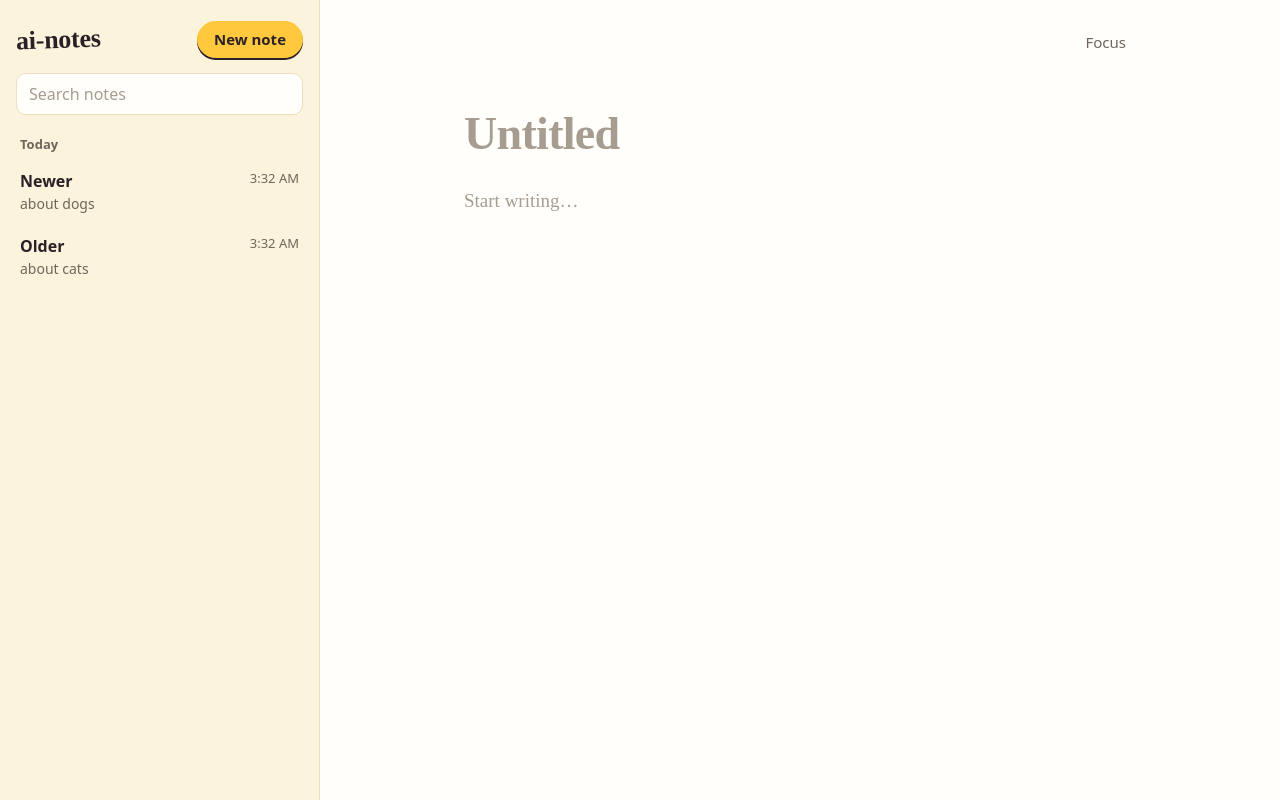
Test: finding and tidying › lists newest first and filters by search
expect the number of links is 2: met, box [8,158,311,224]; [8,224,311,288]
In the search field labelled "Search notes": (160, 94) [16,73,303,115], type "cats"
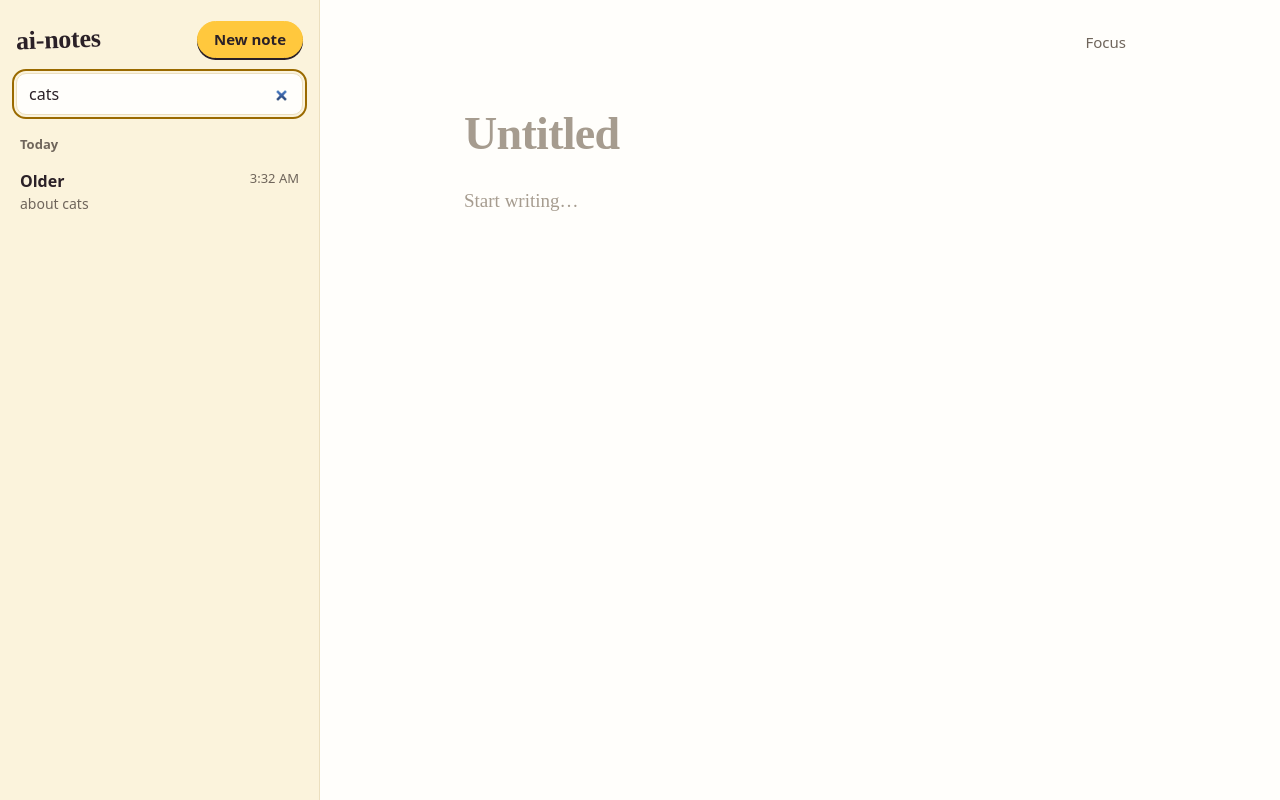
expect the link "Older 3:32 AM about cats" is shown: met, box [8,158,311,224]
expect the link "Newer" is gone: met
Replace the text in the search field named "Search notes" with "zebras": (160, 94) [16,73,303,115]
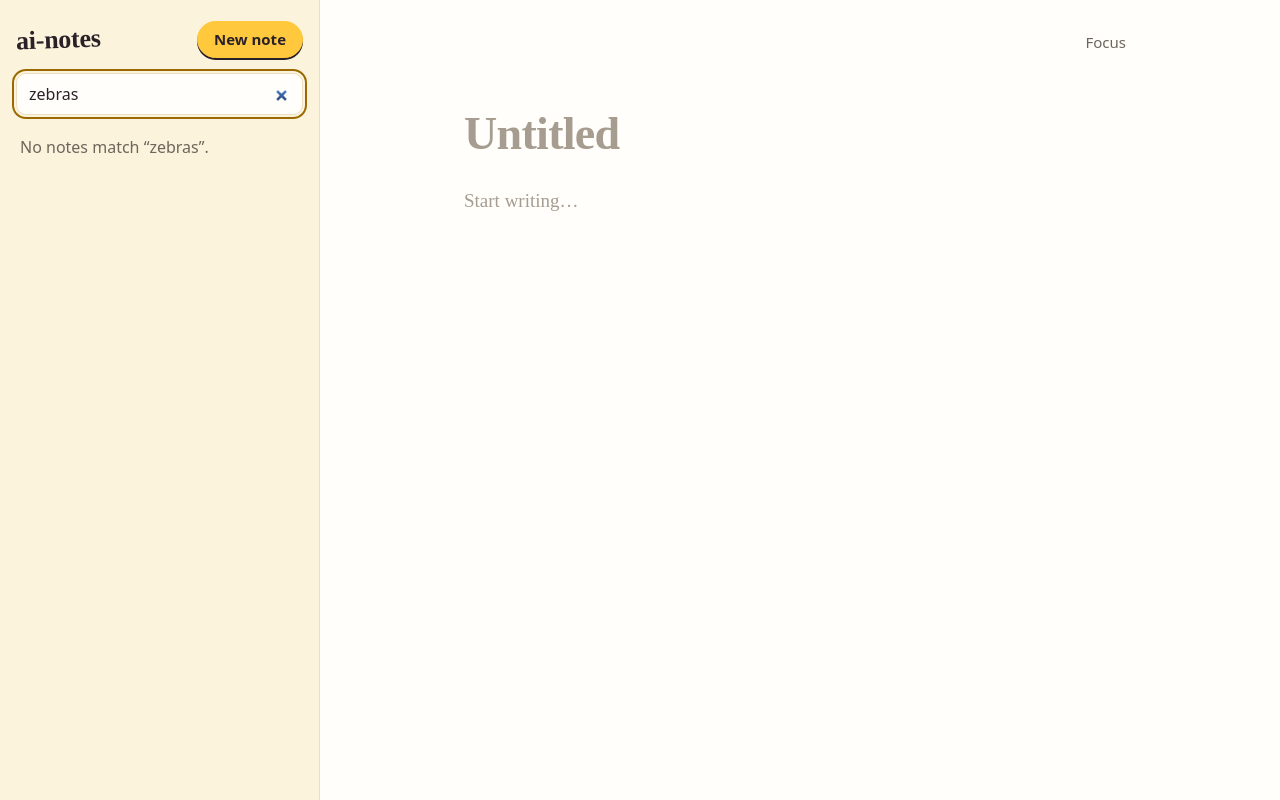
expect the text "No notes match “zebras”." is shown: met, box [20,136,209,158]
